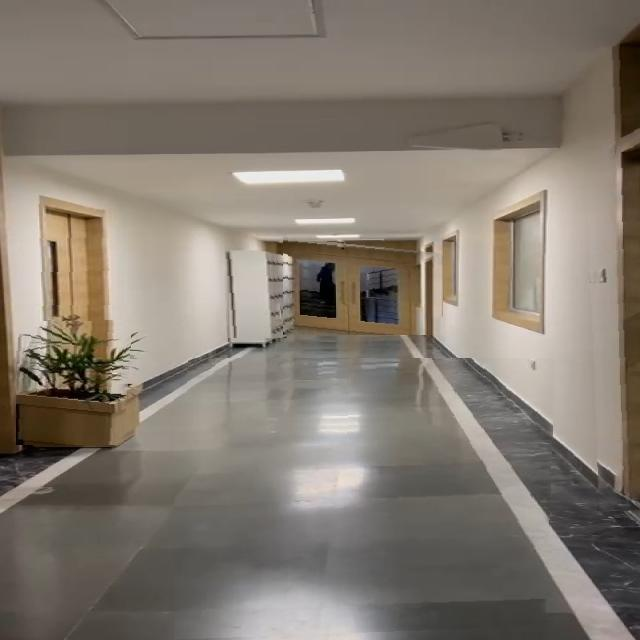door: (582, 49, 640, 512), (283, 238, 443, 336), (35, 187, 127, 321)
floor: (174, 358, 556, 640)
furniture: (16, 316, 132, 445), (222, 233, 287, 338)
